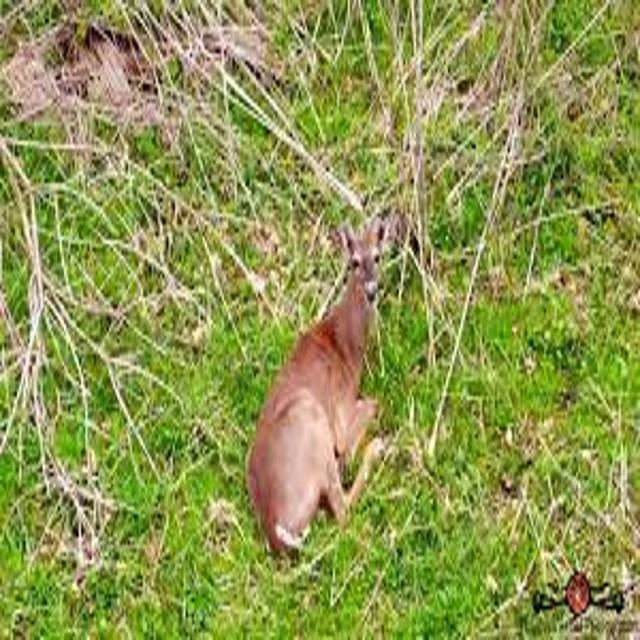Deer: (233, 182, 432, 580)
